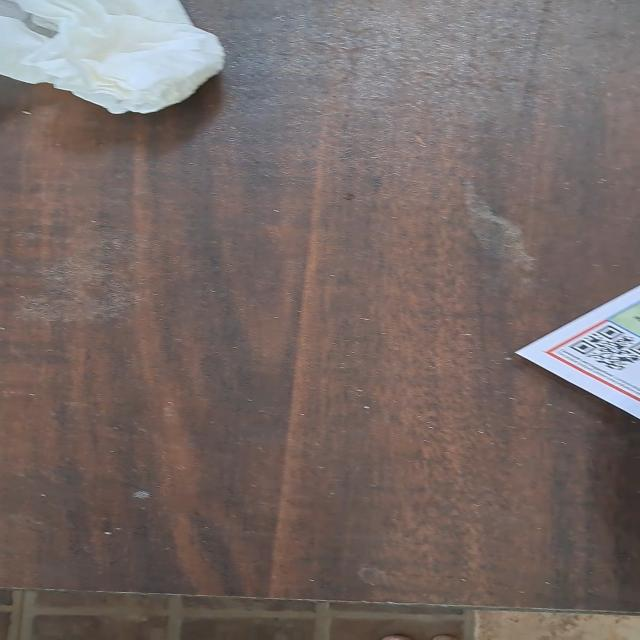Organik: (0, 0, 224, 115)
